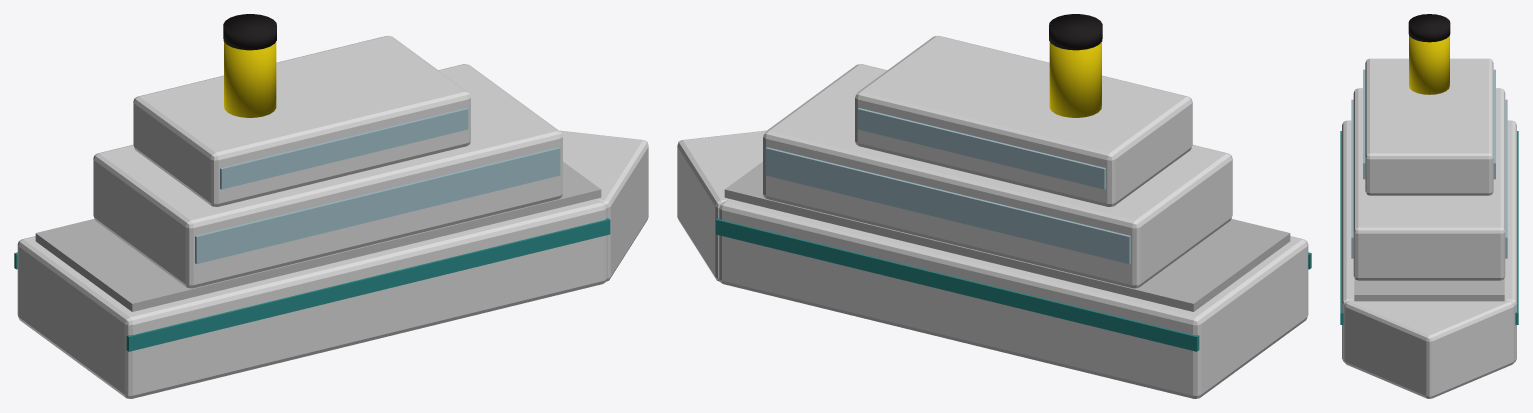
The model's file is boat_ferry.glb.
3 renders of one model, left to right at view 1: azimuth 30°, elevation 25°; view 2: azimuth 150°, elevation 25°; view 3: azimuth 270°, elevation 25°, orthographic. The views are drawn at different scales.
Parts seen in each view (by area): view 1: boat_ferry; view 2: boat_ferry; view 3: boat_ferry.
Boxes of the visible parts, bbox=[...] form: boat_ferry: bbox=[14, 14, 648, 398]; boat_ferry: bbox=[677, 14, 1311, 398]; boat_ferry: bbox=[1340, 14, 1518, 398].
Size of the model in its own units: 0.8877 by 0.43 by 0.306.
